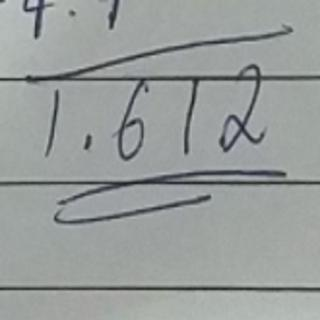.: (74, 133, 97, 158)
1: (40, 86, 61, 162), (185, 77, 199, 154)
2: (221, 62, 265, 151)
6: (112, 80, 151, 162)
